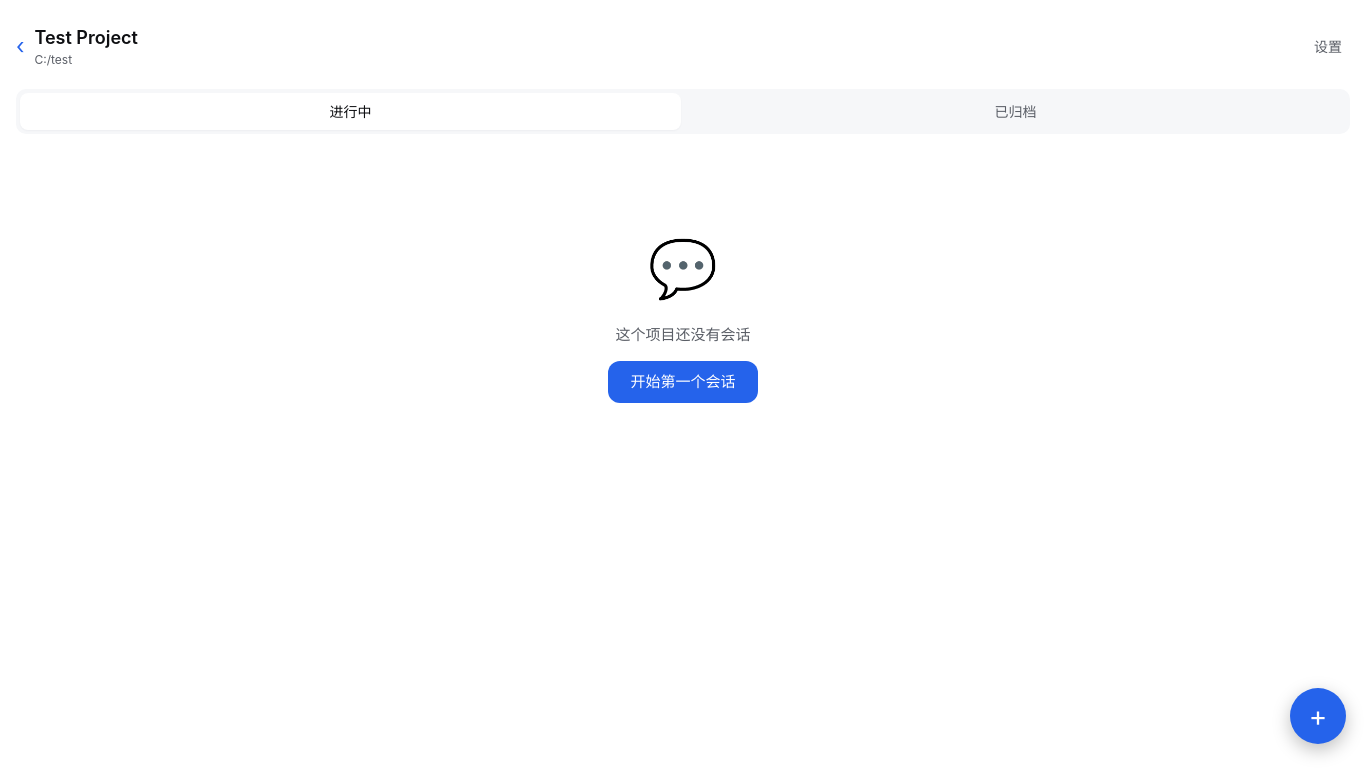
Test case: ProjectThreadsPage › should show empty state for archived tab
Click the tab "已归档" at (1016, 112), box [685,93,1346,130]
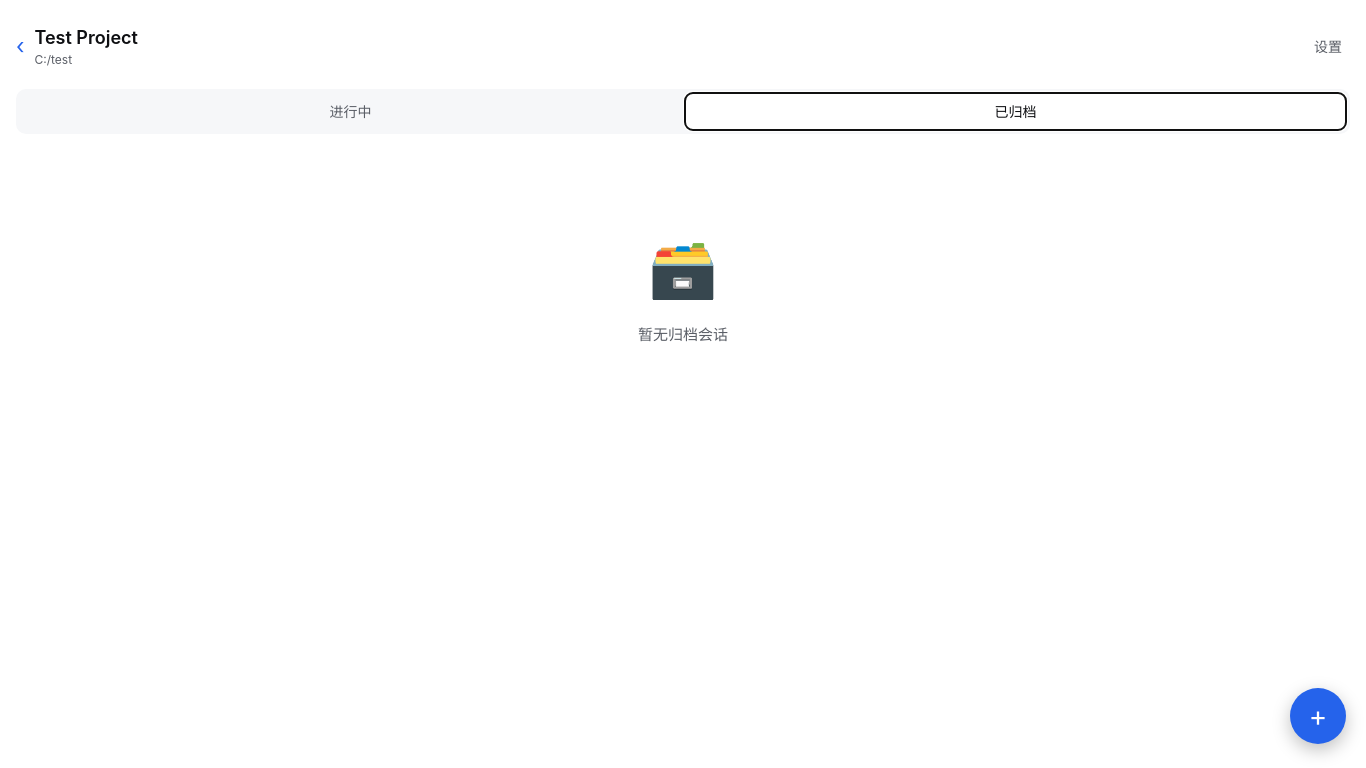
Check: the text "暂无归档会话" is shown, box [638,324,728,346]
Check: the button "开始第一个会话" is gone
